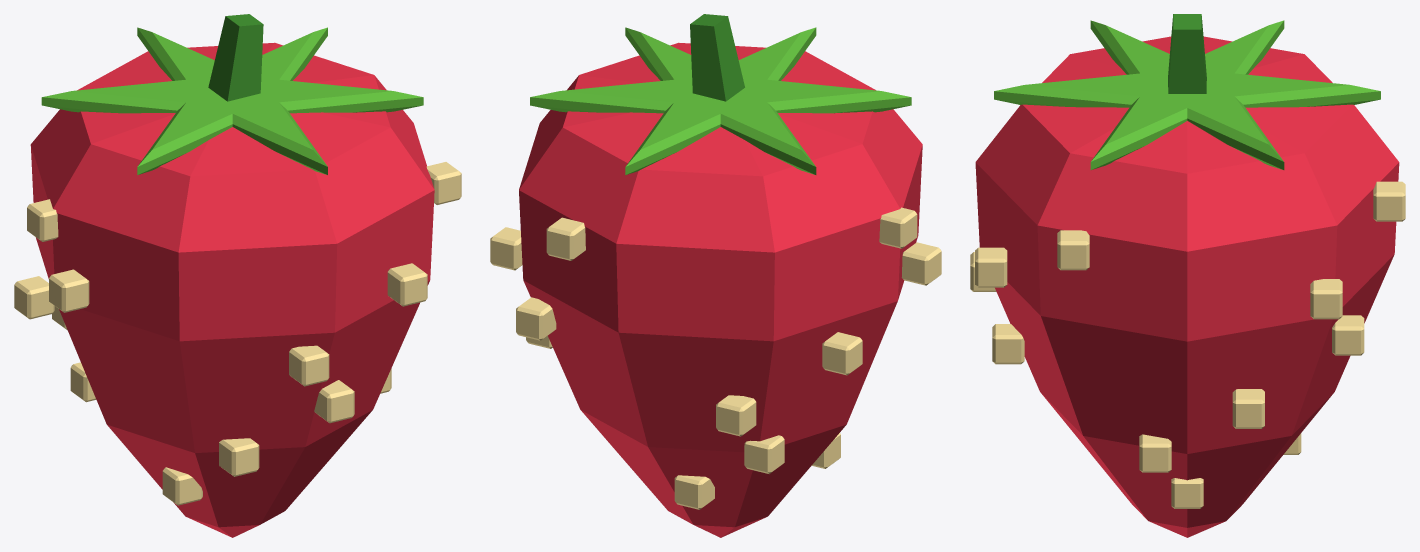
Rendered from Strawberry.fbx.
3 views of the same model, side by side, from view 1: azimuth 30°, elevation 25°; view 2: azimuth 150°, elevation 25°; view 3: azimuth 270°, elevation 25° (orthographic).
Visible parts, largest first — view 1: Strawberry; view 2: Strawberry; view 3: Strawberry.
Boxes of the visible parts, box(x1,y1,x2,y2) form: Strawberry: box(14, 14, 461, 537); Strawberry: box(490, 14, 941, 537); Strawberry: box(970, 14, 1405, 537).
Size of the model in its own units: 0.9579 by 1.25 by 0.9449.
Materials: 1 (1 with a texture image).
